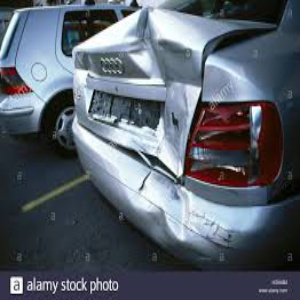bonnet: (93, 7, 200, 164)
